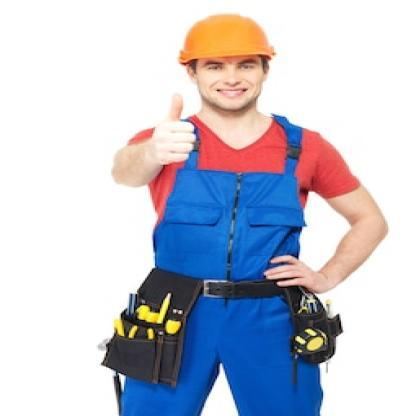thumb_up: (145, 88, 201, 172)
